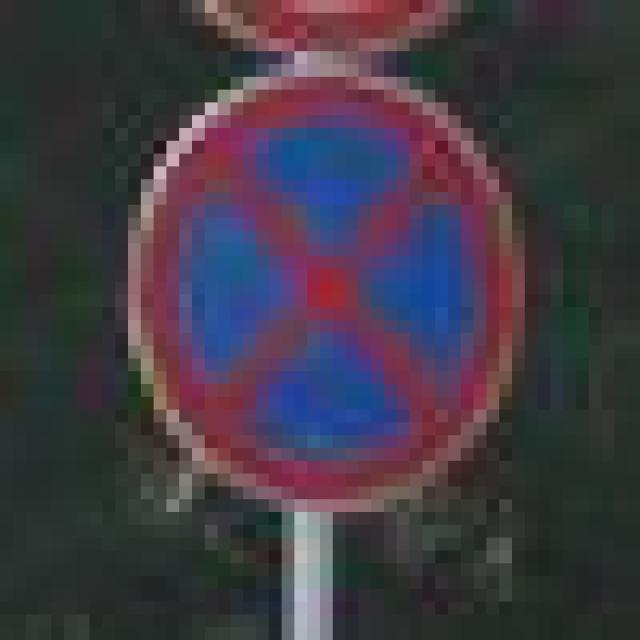no_parking: (115, 51, 512, 486)
